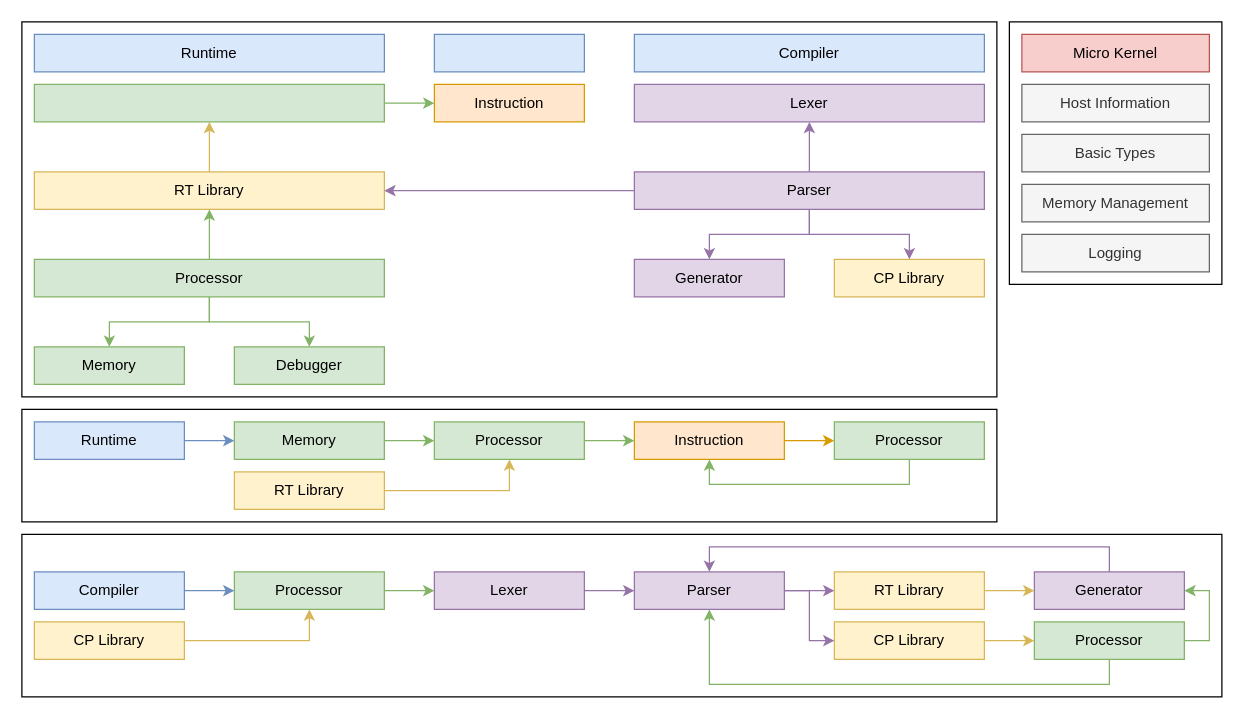
Some shapes in this 1244 by 719 pixel diagram are drawn without their labels. Here are the shapes that lost their labels. From the top down, the box of each, then its label:
(433, 33, 584, 72): Program
(33, 83, 384, 122): Operation
